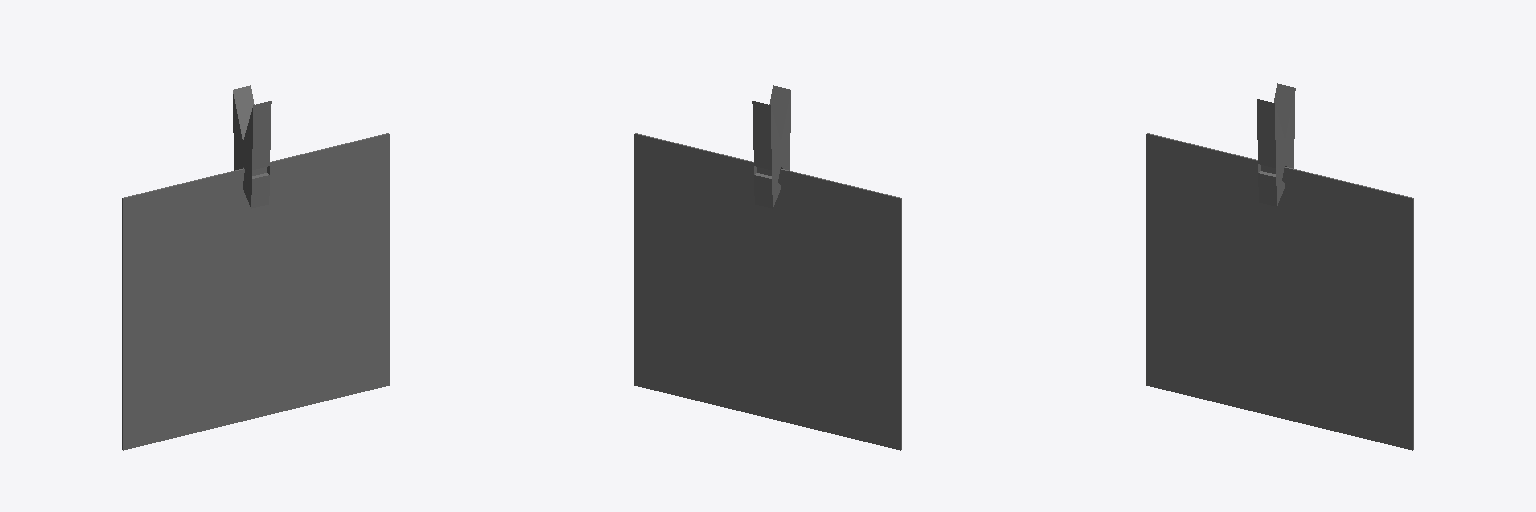
Rendered from Clip_wPhoto_4.obj.
3 renders of one model, left to right at view 1: azimuth 30°, elevation 25°; view 2: azimuth 150°, elevation 25°; view 3: azimuth 330°, elevation 25°, orthographic.
Parts seen in each view (by area): view 1: pCube2, Wooden_Clip:Wooden_Clip; view 2: pCube2, Wooden_Clip:Wooden_Clip; view 3: pCube2, Wooden_Clip:Wooden_Clip.
Part boxes in pixels (x1,y1,x2,y2): pCube2: (122, 133, 389, 450); Wooden_Clip:Wooden_Clip: (233, 85, 271, 208); pCube2: (634, 133, 901, 450); Wooden_Clip:Wooden_Clip: (752, 85, 790, 208); pCube2: (1146, 133, 1413, 450); Wooden_Clip:Wooden_Clip: (1257, 83, 1295, 206).
Size of the model in its own units: 55.97 by 65.01 by 7.6.